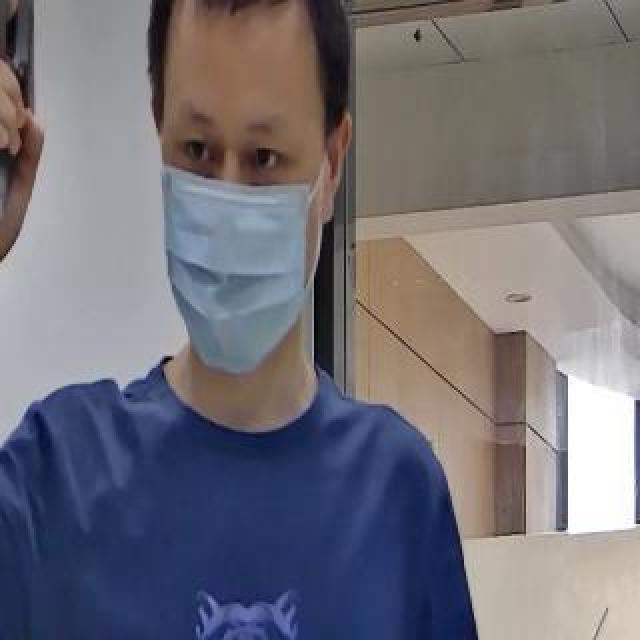Guns: (0, 0, 82, 282)
